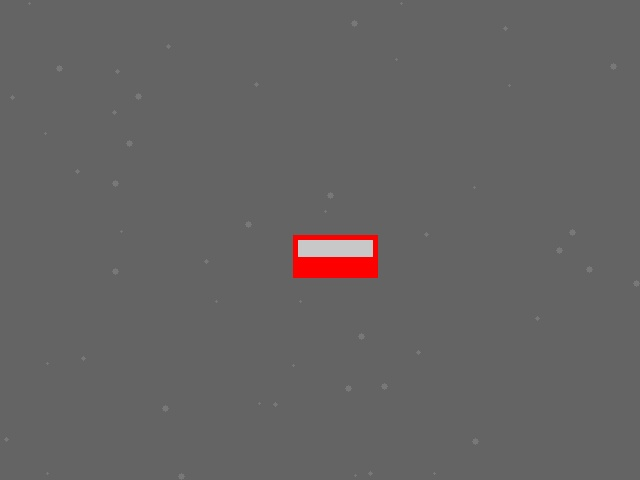car: (293, 235, 377, 277)
